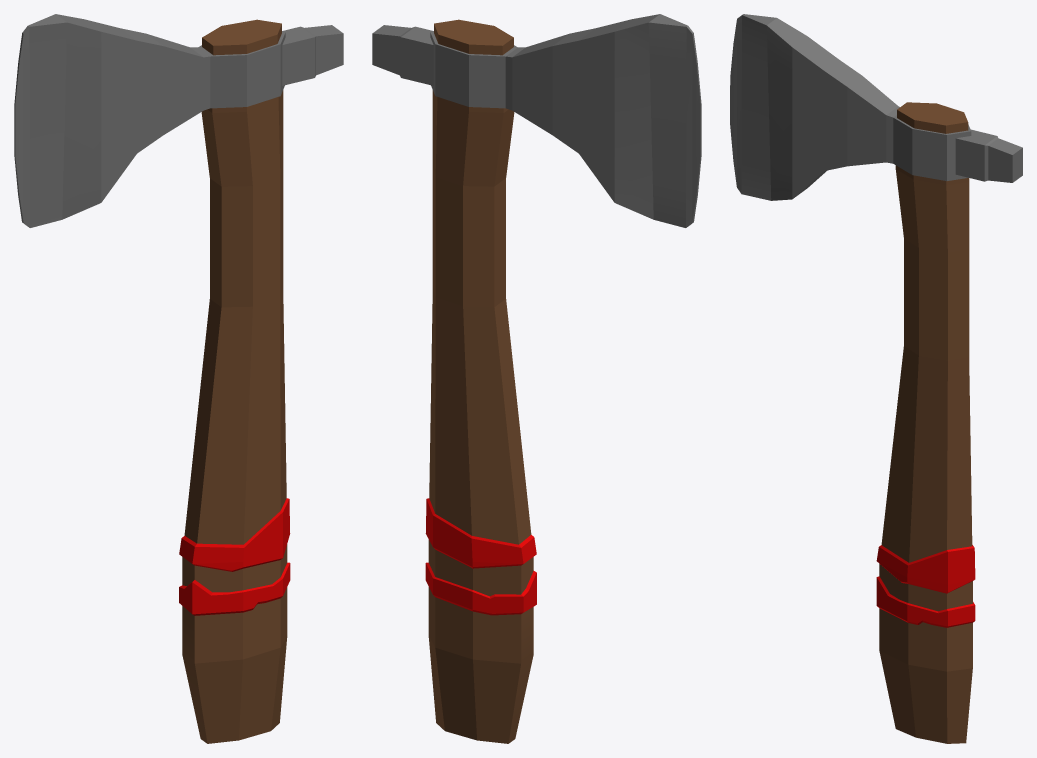
File: AXE.fbx
The picture shows the model from 3 angles, left to right: view 1: azimuth 30°, elevation 25°; view 2: azimuth 150°, elevation 25°; view 3: azimuth 330°, elevation 25°; orthographic projection. The views are drawn at different scales.
Parts seen in each view (by area): view 1: pCylinder7; view 2: pCylinder7; view 3: pCylinder7.
Boxes of the visible parts, x1,y1,x2,y2 form: pCylinder7: [14, 14, 343, 743]; pCylinder7: [372, 14, 701, 743]; pCylinder7: [730, 14, 1022, 743].
Size of the model in its own units: 38.7 by 86.81 by 6.18.
